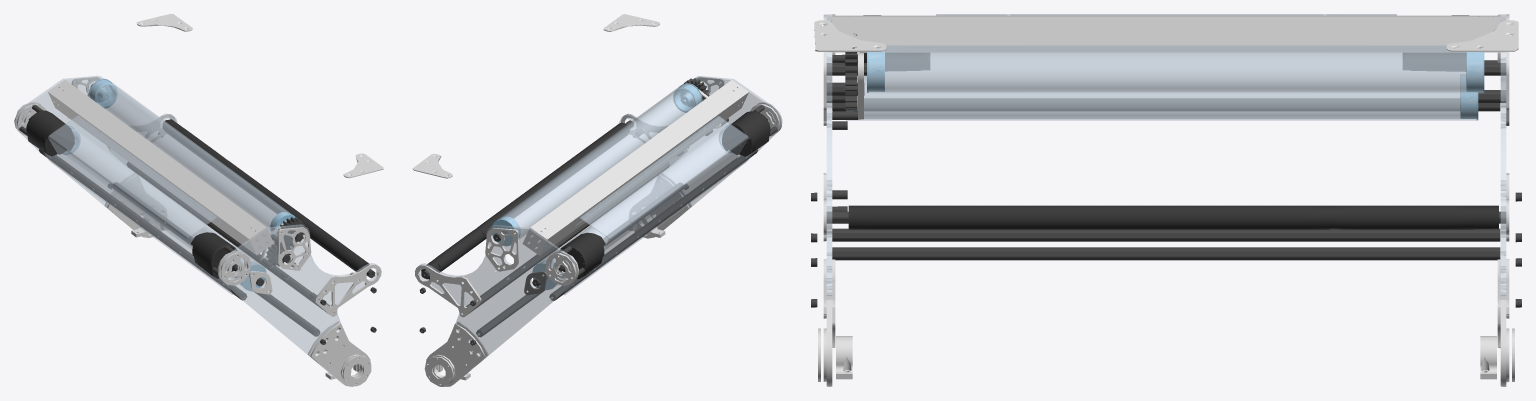
File: 1706-intake.glb
3 renders of one model, left to right at view 1: azimuth 30°, elevation 25°; view 2: azimuth 150°, elevation 25°; view 3: azimuth 270°, elevation 25°, orthographic. The views are drawn at different scales.
Visible parts, largest first — view 1: C-RB-20-101_PLATE_INTAKE, 1.5x1.5 endblock, Kraken X60 Brushless Motor, RB-60-F-0.255-CC, Part 1, Spur gear (18 teeth), Part 48; view 2: C-RB-20-101_PLATE_INTAKE, 1.5x1.5 endblock, Kraken X60 Brushless Motor, RB-60-F-0.255-CC, Part 1, Part 48-Mirrored; view 3: C-RB-20-101_PLATE_INTAKE, 1.5x1.5 endblock, RB-60-F-0.255-CC, Kraken X60 Brushless Motor, Part 1, Spur gear (18 teeth).
Boxes of the visible parts, x1,y1,x2,y2 form: C-RB-20-101_PLATE_INTAKE: (15,75,377,360); 1.5x1.5 endblock: (14,14,383,386); Kraken X60 Brushless Motor: (26,110,369,278); RB-60-F-0.255-CC: (19,84,376,344); Part 1: (63,78,297,291); Spur gear (18 teeth): (266,217,305,266); Part 48: (249,271,272,294); C-RB-20-101_PLATE_INTAKE: (418,76,781,361); 1.5x1.5 endblock: (412,14,782,386); Kraken X60 Brushless Motor: (421,111,770,279); RB-60-F-0.255-CC: (419,84,777,345); Part 1: (491,83,731,289); Part 48-Mirrored: (524,271,547,294); C-RB-20-101_PLATE_INTAKE: (826,14,1506,294); 1.5x1.5 endblock: (814,14,1518,386); RB-60-F-0.255-CC: (811,54,1521,307); Kraken X60 Brushless Motor: (848,15,1498,229); Part 1: (846,47,1484,120); Spur gear (18 teeth): (845,47,857,110).
Bounding box in the file's own units: 0.3259 × 0.4127 × 0.7496.
